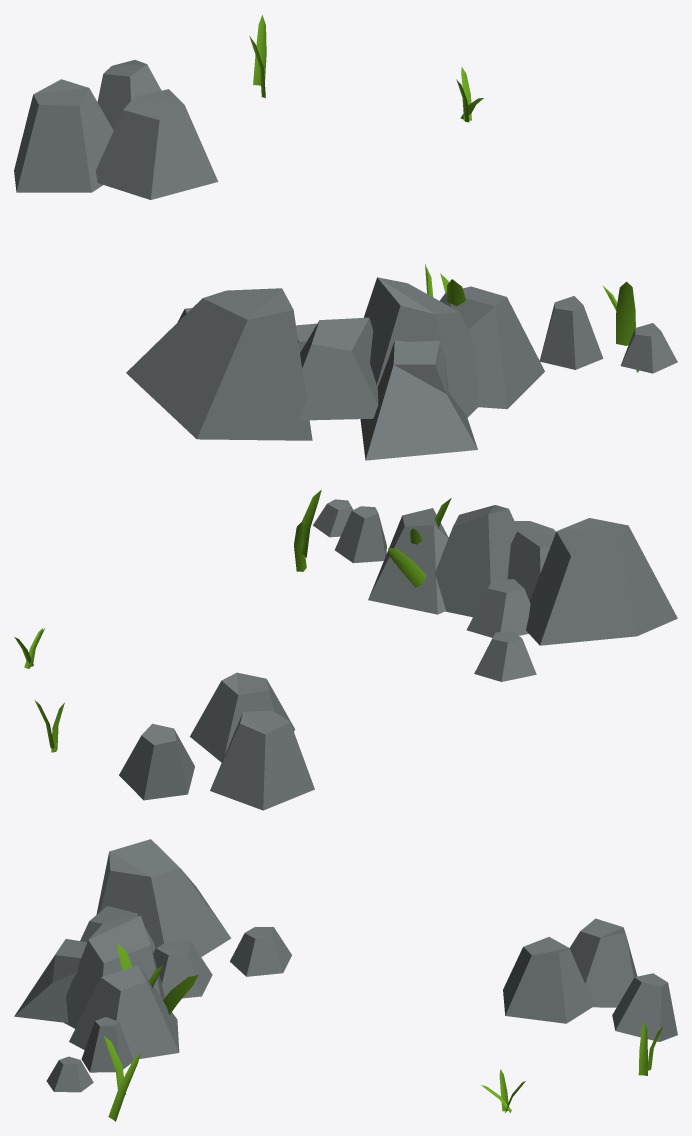
Rendered from Flora_Small_02.fbx.
3 views of the same model, one above another, from view 1: azimuth 30°, elevation 25°; view 2: azimuth 150°, elevation 25°; view 3: azimuth 270°, elevation 25° (orthographic). The views are drawn at different scales.
Visible parts, largest first — view 1: Color_08, Color_07, Color_02, Color_04, Color_06; view 2: Color_08, Color_07, Color_02, Color_04, Color_06; view 3: Color_08, Color_02, Color_07, Color_04, Color_06.
Part boxes in pixels (left/top/right/bottom): Color_08: left=126, top=288, right=477, bottom=460; Color_07: left=14, top=60, right=218, bottom=199; Color_02: left=363, top=277, right=677, bottom=417; Color_04: left=425, top=264, right=639, bottom=372; Color_06: left=249, top=15, right=483, bottom=122; Color_08: left=466, top=518, right=677, bottom=681; Color_07: left=119, top=672, right=314, bottom=810; Color_02: left=313, top=499, right=519, bottom=617; Color_04: left=294, top=490, right=451, bottom=587; Color_06: left=14, top=628, right=64, bottom=752; Color_08: left=14, top=839, right=291, bottom=1022; Color_02: left=46, top=915, right=179, bottom=1092; Color_07: left=503, top=918, right=677, bottom=1041; Color_04: left=103, top=943, right=198, bottom=1121; Color_06: left=481, top=1021, right=663, bottom=1113.
Bounding box in the file's own units: 23.89 × 6.55 × 31.94.
